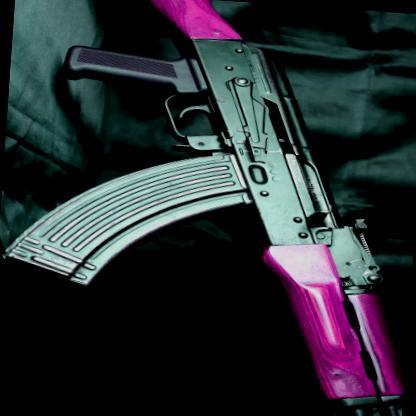rifle: (8, 0, 416, 408)
